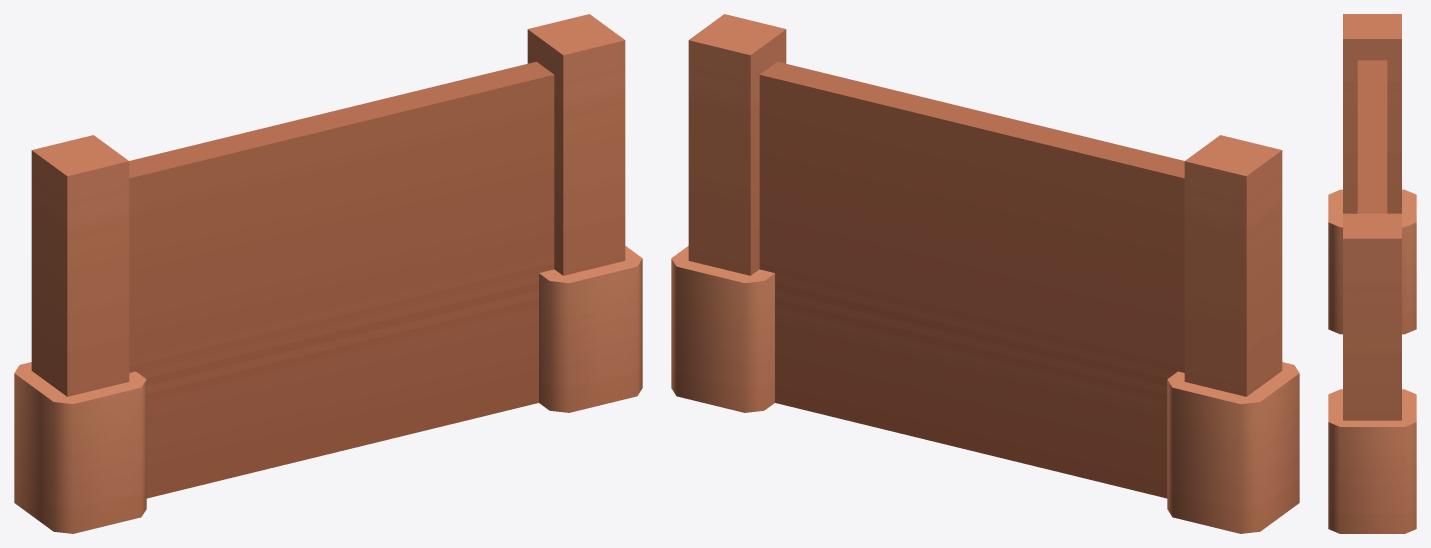
The picture shows the model from 3 angles, left to right: view 1: azimuth 30°, elevation 25°; view 2: azimuth 150°, elevation 25°; view 3: azimuth 270°, elevation 25°; orthographic projection. The views are drawn at different scales.
Parts seen in each view (by area): view 1: fence; view 2: fence; view 3: fence.
Part boxes in pixels (<box>): fence: <box>14,14,642,533</box>; fence: <box>671,14,1299,533</box>; fence: <box>1328,14,1416,533</box>.
Bounding box in the file's own units: 4.27 × 2.43 × 0.6748.
Materials: 1 (1 with a texture image).
